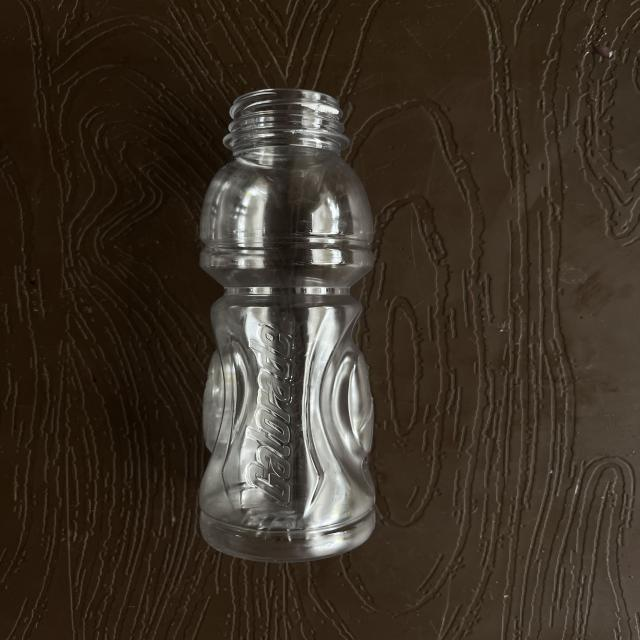PET_ClearBottle: (169, 92, 554, 567)
